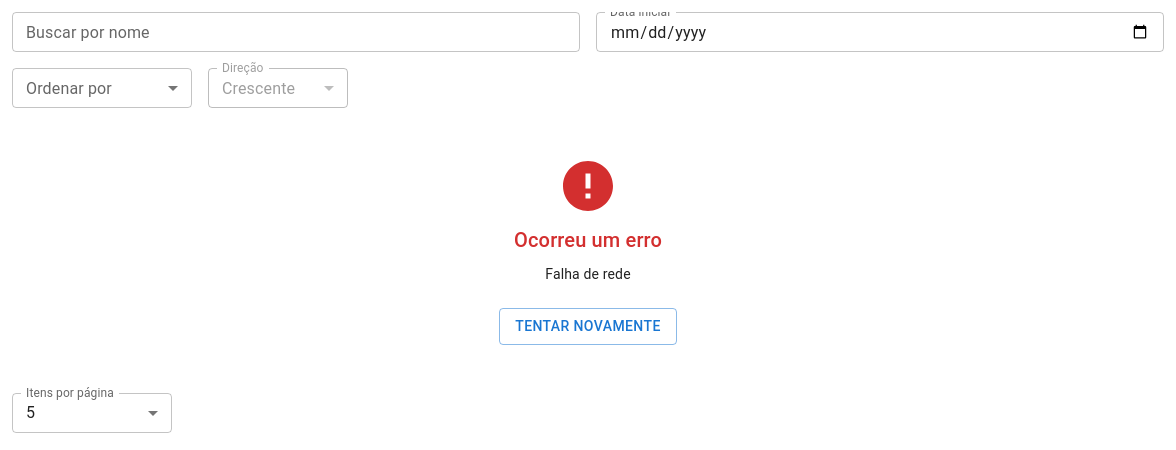
it: PaginatedList — contrato da #29 e feedback da #27 › mostra ErrorState e repete a consulta sem remover os filtros
Check: the text "Falha de rede" is shown, box [545, 264, 631, 284]
Check: the heading "Ocorreu um erro" is shown, box [514, 224, 662, 256]
Click the button "Tentar Novamente".
click(588, 326)  # box [499, 308, 677, 344]
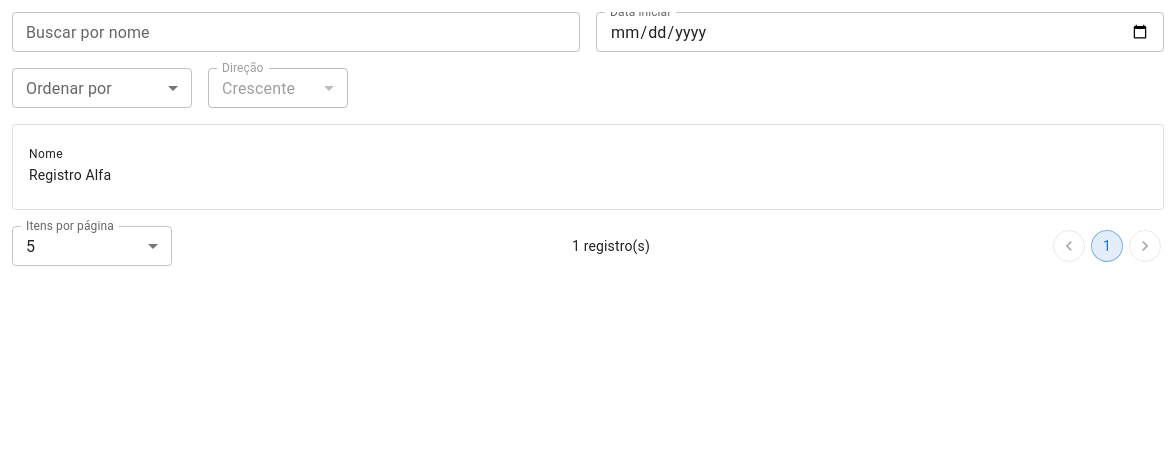
Check: the text "Registro Alfa" is shown, box [29, 167, 111, 183]
